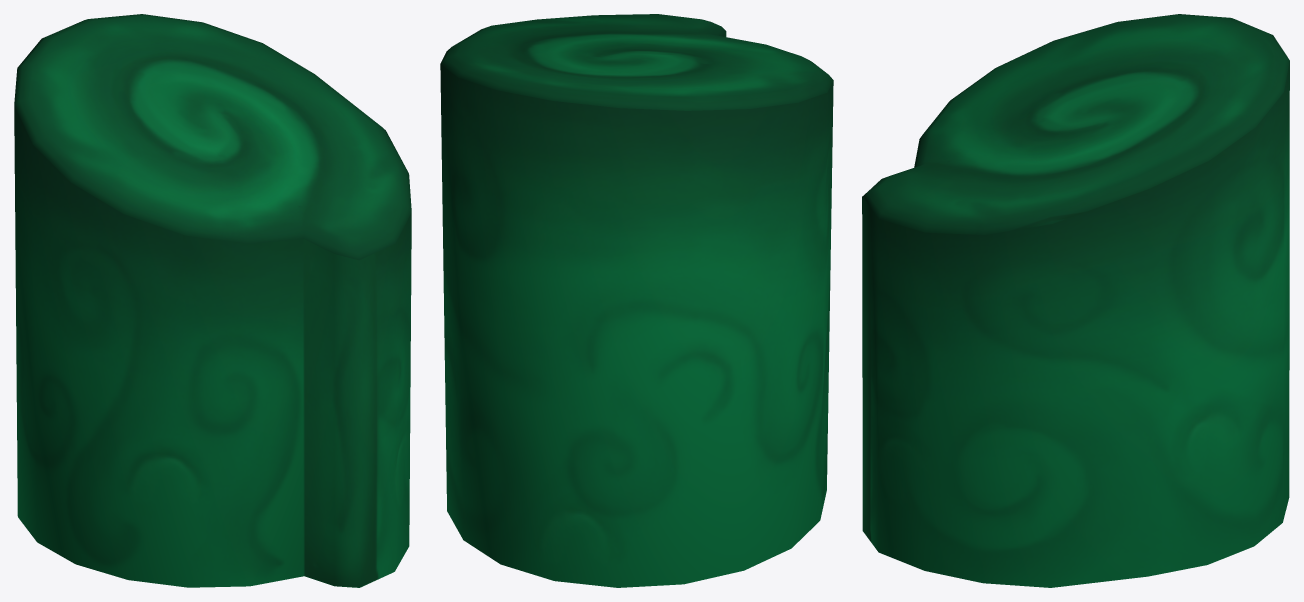
File: StruikRond.FBX
3 views of the same model, side by side, from view 1: azimuth 30°, elevation 25°; view 2: azimuth 150°, elevation 25°; view 3: azimuth 270°, elevation 25° (orthographic). The views are drawn at different scales.
Parts seen in each view (by area): view 1: CL_STRUIKK_SeamsColor; view 2: CL_STRUIKK_SeamsColor; view 3: CL_STRUIKK_SeamsColor.
Boxes of the visible parts, bbox=[...] form: CL_STRUIKK_SeamsColor: bbox=[14, 14, 411, 587]; CL_STRUIKK_SeamsColor: bbox=[440, 14, 833, 587]; CL_STRUIKK_SeamsColor: bbox=[862, 14, 1289, 587].
Size of the model in its own units: 43.72 by 56.7 by 49.61.
1 material, 1 textured.
